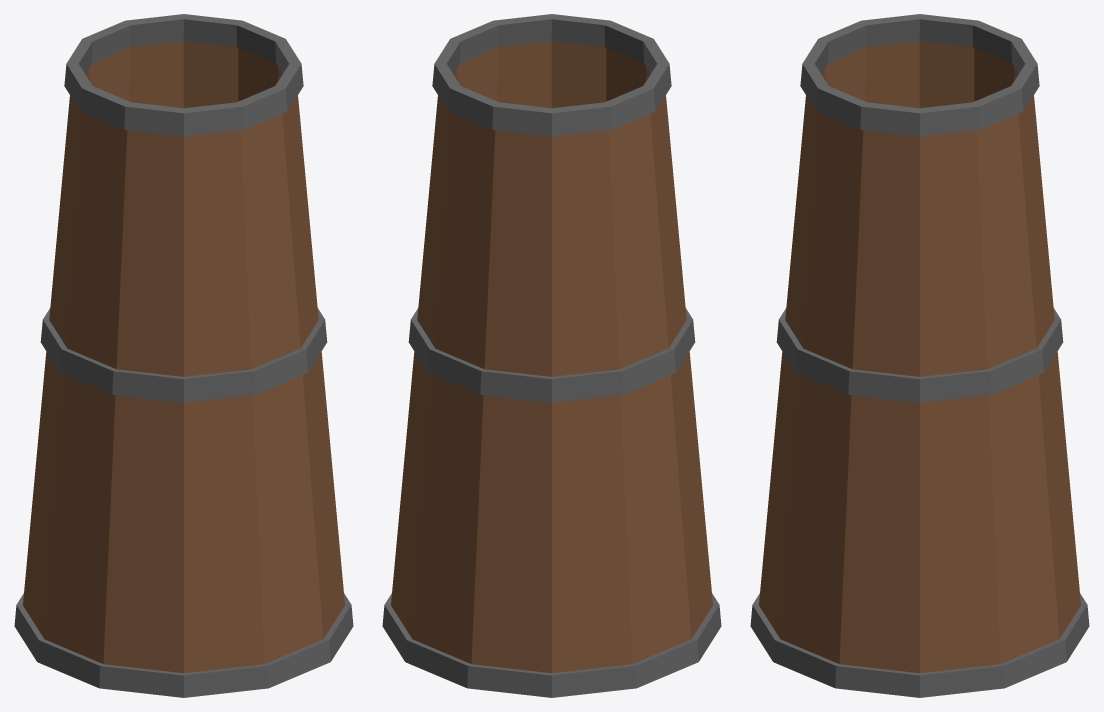
Rendered from ChurnerNoCap.fbx.
3 views of the same model, side by side, from view 1: azimuth 30°, elevation 25°; view 2: azimuth 150°, elevation 25°; view 3: azimuth 270°, elevation 25° (orthographic).
Visible parts, largest first — view 1: Churner2; view 2: Churner2; view 3: Churner2.
Boxes of the visible parts, x1,y1,x2,y2 form: Churner2: (14,14,353,697); Churner2: (382,14,721,697); Churner2: (750,14,1089,697).
Size of the model in its own units: 54.61 by 100 by 54.61.
